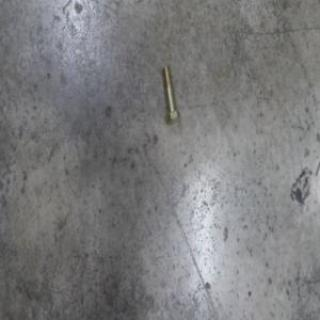Bolttrack_idkeyframe: (162, 63, 180, 124)
